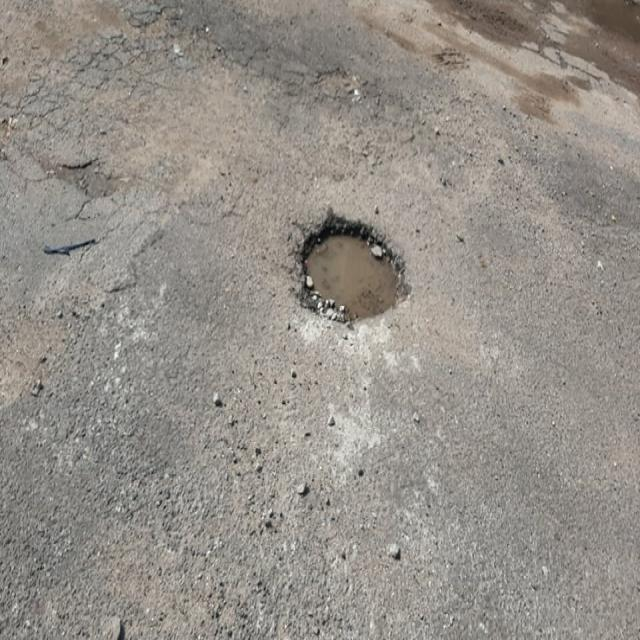Pothole: (286, 218, 468, 391)
